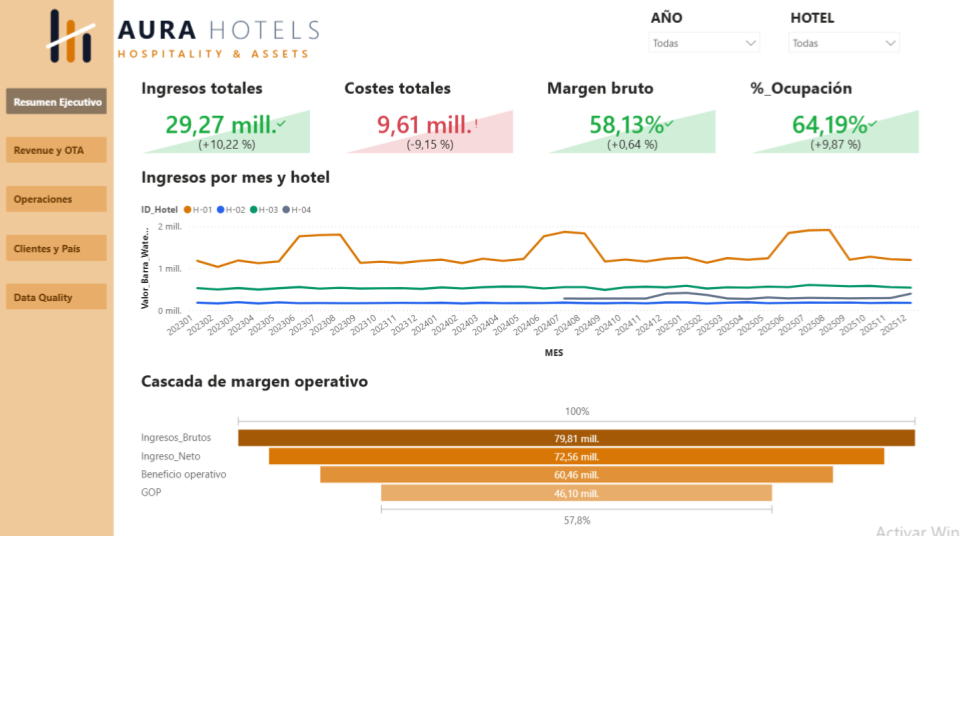

Layout of this report page (visuals, bound fields, positions):
{"tool":"powerbi","page":{"name":"Resumen Ejecutivo","canvas":[1280,720],"ordinal":0},"visuals":[{"type":"shape","box":[0,0,152.1,720.2],"z":0},{"type":"kpi","title":"Ingresos totales","fields":{"Indicator":["Sum(FACT_PRODUCCIÓN.Ingreso_Total)"],"TrendLine":["DIM_CALENDARIO.AÑO"],"Goal":["FACT_PRODUCCIÓN.Ingresos YoY"]},"box":[183.6,107,234.7,107.6],"z":1000,"group":"g1"},{"type":"group","id":"g1","title":"Grupo 1","box":[183.6,107,1044.8,108.3],"z":2000},{"type":"kpi","title":"Costes totales","fields":{"TrendLine":["DIM_CALENDARIO.AÑO"],"Goal":["FACT_PRODUCCIÓN.Costes YoY"],"Indicator":["FACT_PRODUCCIÓN.Costes totales"]},"box":[453.7,107,234.7,107.6],"z":2000,"group":"g1"},{"type":"kpi","title":"Margen bruto","fields":{"Indicator":["FACT_PRODUCCIÓN.Margen bruto"],"Goal":["FACT_PRODUCCIÓN.Margen YoY"],"TrendLine":["DIM_CALENDARIO.AÑO"]},"box":[723.9,107,234.7,107.6],"z":3000,"group":"g1"},{"type":"funnel","title":"Cascada de margen operativo","fields":{"Y":["FACT_PRODUCCIÓN.Ingresos_Brutos","FACT_PRODUCCIÓN.Ingreso_Neto","FACT_PRODUCCIÓN.Beneficio operativo","FACT_PRODUCCIÓN.GOP"]},"box":[183.6,496,1044.8,216.5],"z":3000},{"type":"kpi","title":"%_Ocupación","fields":{"TrendLine":["DIM_CALENDARIO.AÑO"],"Indicator":["FACT_PRODUCCIÓN.%_Ocupacion"],"Goal":["FACT_PRODUCCIÓN.% Ocupación YoY"]},"box":[994,107,234.7,107.6],"z":4000,"group":"g1"},{"type":"lineChart","title":"Ingresos por mes y hotel","fields":{"Category":["DIM_CALENDARIO.MES"],"Series":["DIM_HOTELES.ID_Hotel"],"Y":["DIM_ESTRUCTURA.Valor_Barra_Waterfall"]},"box":[183.6,225.4,1045.1,262.4],"z":4000},{"type":"slicer","fields":{"Values":["DIM_CALENDARIO.AÑO"]},"box":[853.5,11.3,168.7,65.5],"z":5000},{"type":"slicer","fields":{"Values":["DIM_HOTELES.ID_Hotel"]},"box":[1039.8,11.3,168.7,65.5],"z":6000},{"type":"pageNavigator","box":[8.6,122.7,135,299.4],"z":7000},{"type":"image","box":[0,0,669.9,106.7],"z":8000}]}

Visuals, with their boxes on the page's 1280x720 design canvas (x1, y1, x2, y2). These are canvas units, not pixel positions in the 960x720 screenshot, which may show the page scaled, cropped or inside an application window:
shape: bbox=(0, 0, 152, 720)
"Ingresos totales" kpi: bbox=(184, 107, 418, 215)
"Grupo 1" group: bbox=(184, 107, 1228, 215)
"Costes totales" kpi: bbox=(454, 107, 688, 215)
"Margen bruto" kpi: bbox=(724, 107, 959, 215)
"Cascada de margen operativo" funnel: bbox=(184, 496, 1228, 712)
"%_Ocupación" kpi: bbox=(994, 107, 1229, 215)
"Ingresos por mes y hotel" lineChart: bbox=(184, 225, 1229, 488)
slicer - DIM_CALENDARIO.AÑO: bbox=(854, 11, 1022, 77)
slicer - DIM_HOTELES.ID_Hotel: bbox=(1040, 11, 1208, 77)
pageNavigator: bbox=(9, 123, 144, 422)
image: bbox=(0, 0, 670, 107)
